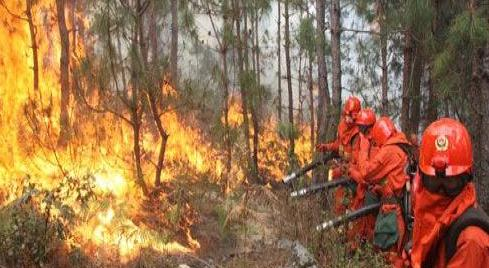fire: (81, 99, 184, 253), (1, 6, 78, 194), (188, 103, 316, 186)
